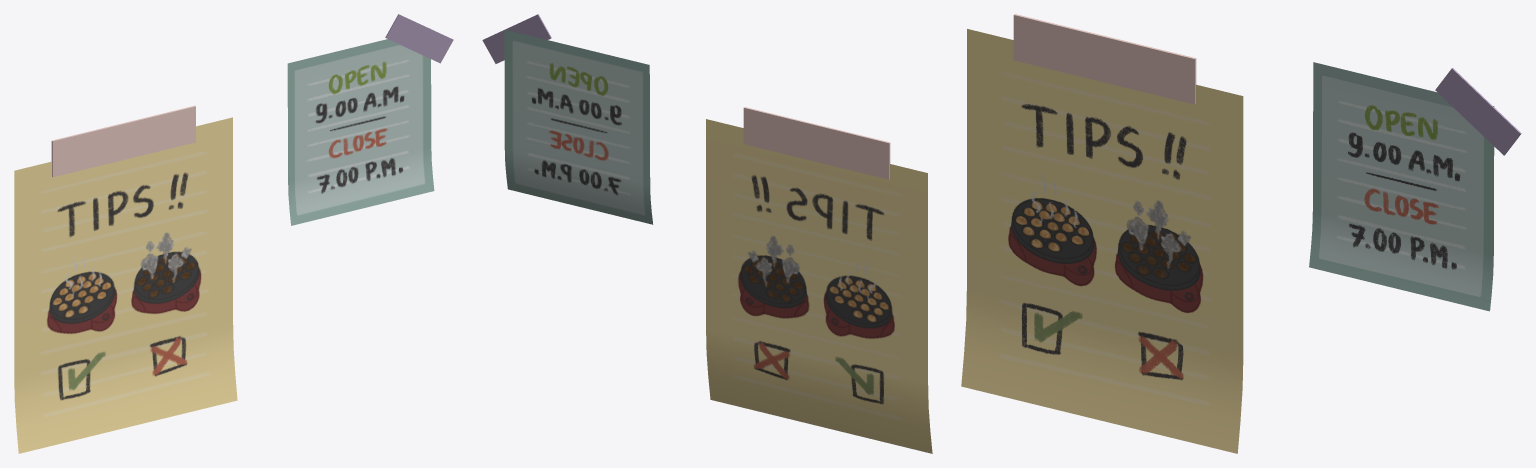
The model's file is Notes.obj.
3 views of the same model, side by side, from view 1: azimuth 30°, elevation 25°; view 2: azimuth 150°, elevation 25°; view 3: azimuth 330°, elevation 25° (orthographic). The views are drawn at different scales.
Parts seen in each view (by area): view 1: Notes_Note1SG, Notes_Note2SG, Notes_Tape1SG, Notes_Tape2SG; view 2: Notes_Note1SG, Notes_Note2SG, Notes_Tape1SG, Notes_Tape2SG; view 3: Notes_Note1SG, Notes_Note2SG, Notes_Tape1SG, Notes_Tape2SG.
Part boxes in pixels (<box>): Notes_Note1SG: <box>14,117,237,453</box>; Notes_Note2SG: <box>287,28,434,225</box>; Notes_Tape1SG: <box>51,105,195,177</box>; Notes_Tape2SG: <box>385,14,453,63</box>; Notes_Note1SG: <box>706,119,932,453</box>; Notes_Note2SG: <box>504,29,653,224</box>; Notes_Tape1SG: <box>743,107,890,179</box>; Notes_Tape2SG: <box>482,14,551,63</box>; Notes_Note1SG: <box>961,29,1243,453</box>; Notes_Note2SG: <box>1309,62,1494,311</box>; Notes_Tape1SG: <box>1013,14,1196,104</box>; Notes_Tape2SG: <box>1435,68,1521,155</box>.
Bounding box in the file's own units: 3.67 × 2.74 × 0.0707.
Materials: 4 (4 with a texture image).
